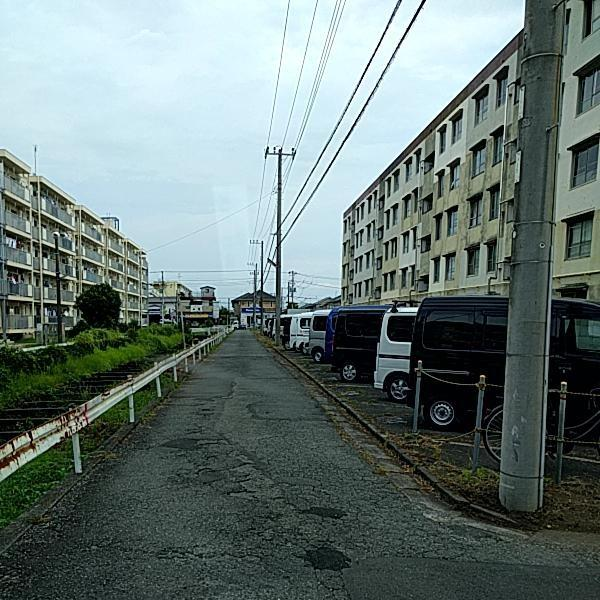pothole: (306, 544, 349, 571), (163, 547, 200, 563), (311, 503, 349, 518)
